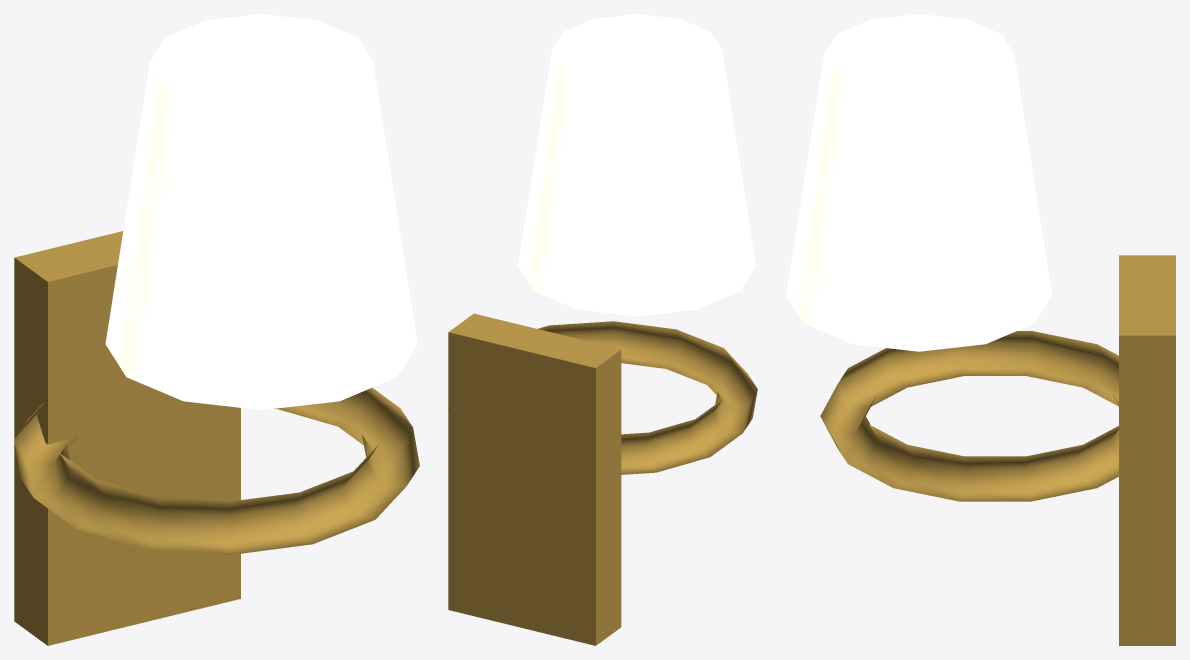
Rendered from wall_sconce.glb.
3 views of the same model, side by side, from view 1: azimuth 30°, elevation 25°; view 2: azimuth 150°, elevation 25°; view 3: azimuth 270°, elevation 25° (orthographic). The views are drawn at different scales.
Parts seen in each view (by area): view 1: wall_sconce; view 2: wall_sconce; view 3: wall_sconce.
Boxes of the visible parts, x1,y1,x2,y2 form: wall_sconce: (14, 14, 419, 645); wall_sconce: (448, 14, 757, 645); wall_sconce: (786, 14, 1175, 645).
Size of the model in its own units: 0.1794 by 0.32 by 0.205.
